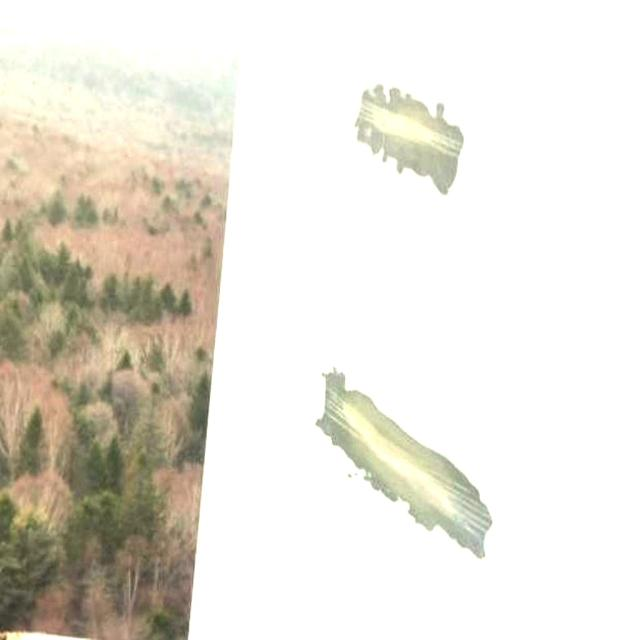surface_peeling: (309, 368, 501, 562), (350, 83, 468, 200)
